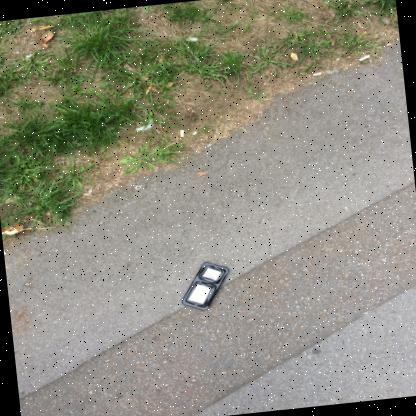Cigarette: (358, 55, 370, 61), (180, 130, 184, 137), (312, 72, 321, 75)
Disposable food container: (181, 261, 230, 310)
